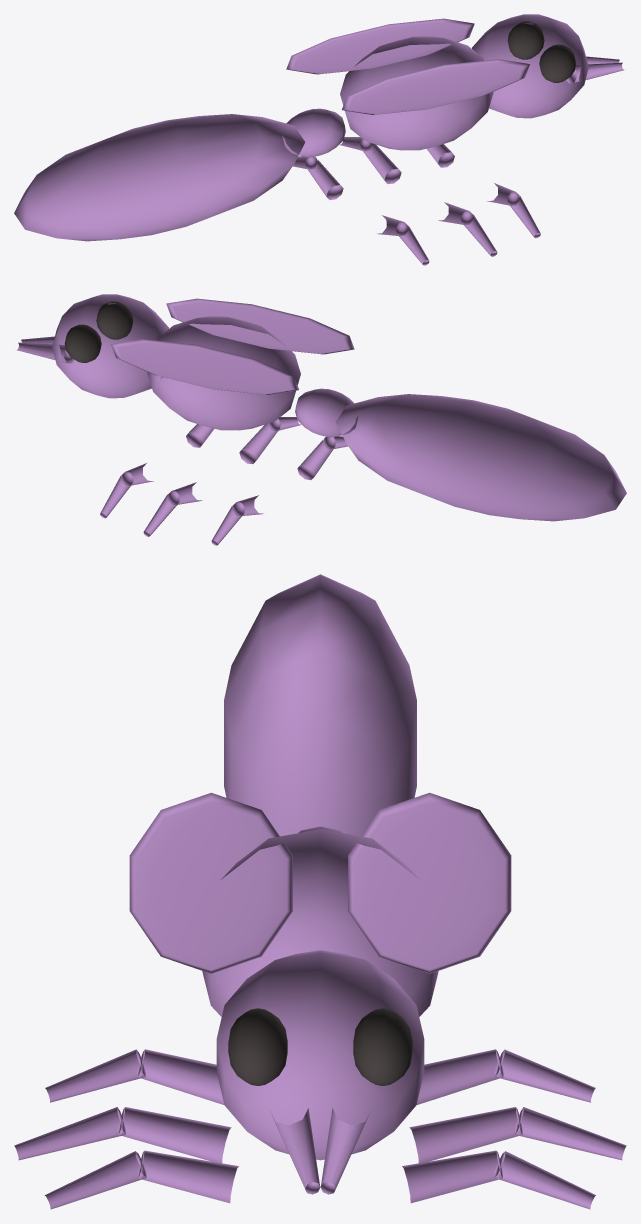
Rendered from predator.glb.
The picture shows the model from 3 angles, top to bottom: view 1: azimuth 30°, elevation 25°; view 2: azimuth 150°, elevation 25°; view 3: azimuth 270°, elevation 25°; orthographic projection. The views are drawn at different scales.
Parts seen in each view (by area): view 1: Abdomen, ThoraxShell, WingL, HeadShell, WingR, Waist, EyeL, EyeR, FemurLegR2, FemurLegR3, JawL, TibiaLegL2 (+6 smaller); view 2: Abdomen, ThoraxShell, WingR, HeadShell, WingL, Waist, EyeR, EyeL, FemurLegL2, FemurLegL3, JawR, TibiaLegR2 (+6 smaller); view 3: Abdomen, HeadShell, WingL, WingR, ThoraxShell, EyeL, EyeR, FemurLegL2, FemurLegR2, FemurLegL1, FemurLegR1, FemurLegL3 (+9 smaller).
Boxes of the visible parts, x1,y1,x2,y2 form: Abdomen: [14, 114, 305, 241]; ThoraxShell: [340, 36, 493, 150]; WingL: [342, 59, 529, 114]; HeadShell: [472, 14, 588, 118]; WingR: [286, 18, 474, 74]; Waist: [282, 108, 345, 156]; EyeL: [539, 44, 576, 82]; EyeR: [507, 21, 544, 59]; FemurLegR2: [361, 143, 401, 183]; FemurLegR3: [305, 159, 343, 199]; JawL: [566, 62, 623, 83]; TibiaLegL2: [461, 214, 497, 256]; Abdomen: [335, 394, 626, 521]; ThoraxShell: [147, 316, 300, 430]; WingR: [111, 339, 298, 394]; HeadShell: [52, 294, 168, 398]; WingL: [166, 298, 354, 354]; Waist: [295, 388, 358, 436]; EyeR: [64, 324, 101, 362]; EyeL: [96, 301, 133, 339]; FemurLegL2: [239, 423, 279, 463]; FemurLegL3: [297, 439, 335, 479]; JawR: [17, 342, 74, 363]; TibiaLegR2: [143, 494, 179, 536]; Abdomen: [224, 574, 416, 836]; HeadShell: [216, 950, 424, 1160]; WingL: [129, 792, 292, 973]; WingR: [348, 792, 511, 973]; ThoraxShell: [202, 829, 438, 1016]; EyeL: [228, 1008, 287, 1085]; EyeR: [353, 1008, 412, 1085]; FemurLegL2: [118, 1107, 231, 1163]; FemurLegR2: [409, 1107, 522, 1163]; FemurLegL1: [138, 1150, 238, 1203]; FemurLegR1: [402, 1150, 502, 1203]; FemurLegL3: [137, 1049, 224, 1105].
Bounding box in the file's own units: 1 × 0.2495 × 0.4423.
